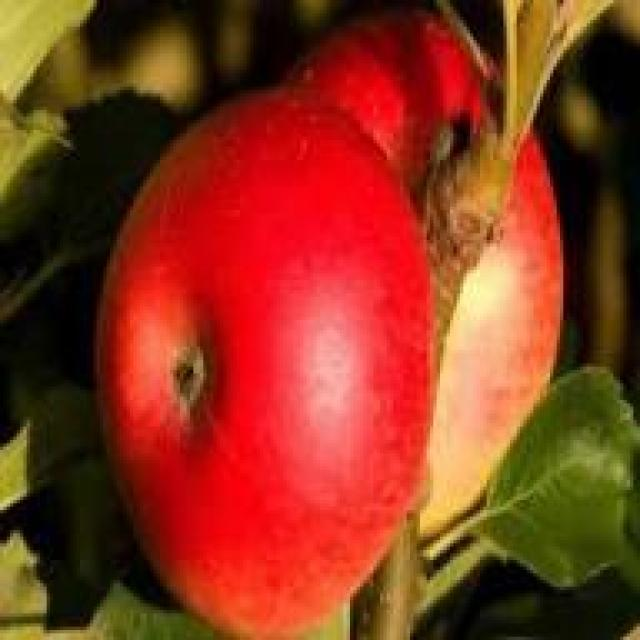apple: (107, 80, 413, 637)
